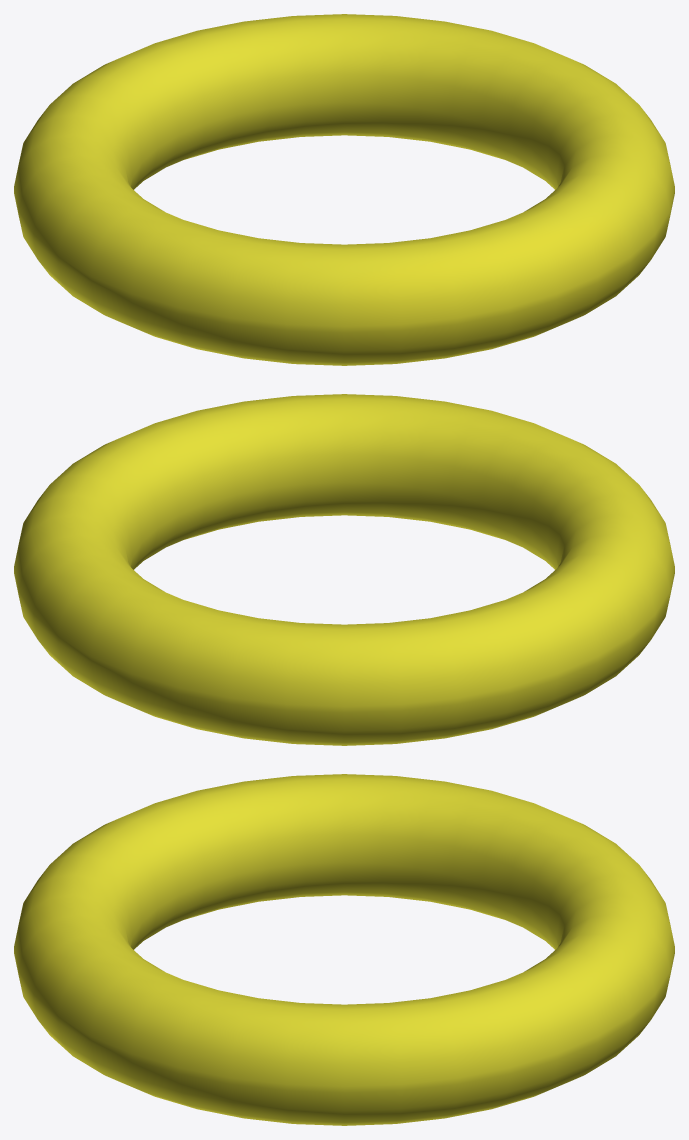
The model's file is Ring .fbx.
3 views of the same model, one above another, from view 1: azimuth 30°, elevation 25°; view 2: azimuth 150°, elevation 25°; view 3: azimuth 270°, elevation 25° (orthographic).
Visible parts, largest first — view 1: Nut 1.001; view 2: Nut 1.001; view 3: Nut 1.001.
Part boxes in pixels (bbox=[...]): Nut 1.001: bbox=[14, 14, 674, 365]; Nut 1.001: bbox=[14, 394, 674, 745]; Nut 1.001: bbox=[14, 774, 674, 1125].
Size of the model in its own units: 638 by 118 by 638.
